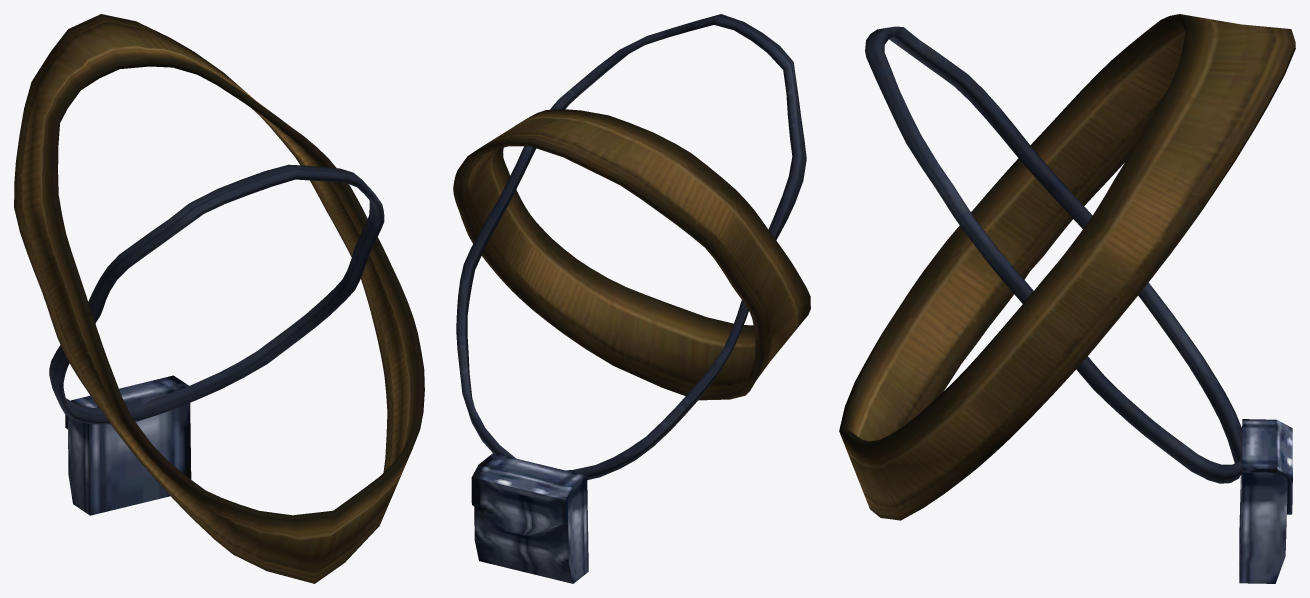
The model's file is 13903_Straps_No_Weight_Paint.fbx.
3 views of the same model, side by side, from view 1: azimuth 30°, elevation 25°; view 2: azimuth 150°, elevation 25°; view 3: azimuth 270°, elevation 25° (orthographic). The views are drawn at different scales.
Visible parts, largest first — view 1: 13903_strap_left, 13903_strap_right, 13903_strap_right_bag; view 2: 13903_strap_left, 13903_strap_right_bag, 13903_strap_right; view 3: 13903_strap_left, 13903_strap_right, 13903_strap_right_bag.
Boxes of the visible parts, box(x1,y1,x2,y2) form: 13903_strap_left: box(14, 14, 424, 583); 13903_strap_right: box(49, 164, 384, 424); 13903_strap_right_bag: box(65, 375, 191, 515); 13903_strap_left: box(453, 109, 810, 400); 13903_strap_right_bag: box(471, 453, 588, 583); 13903_strap_right: box(456, 14, 806, 479); 13903_strap_left: box(839, 14, 1295, 520); 13903_strap_right: box(865, 26, 1242, 483); 13903_strap_right_bag: box(1239, 419, 1292, 583).
Size of the model in its own units: 1153 by 1704 by 1386.
Materials: 1 (1 with a texture image).
